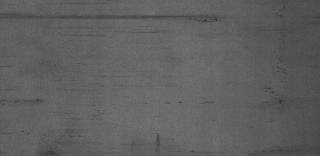water spot: (12, 9, 230, 31)
